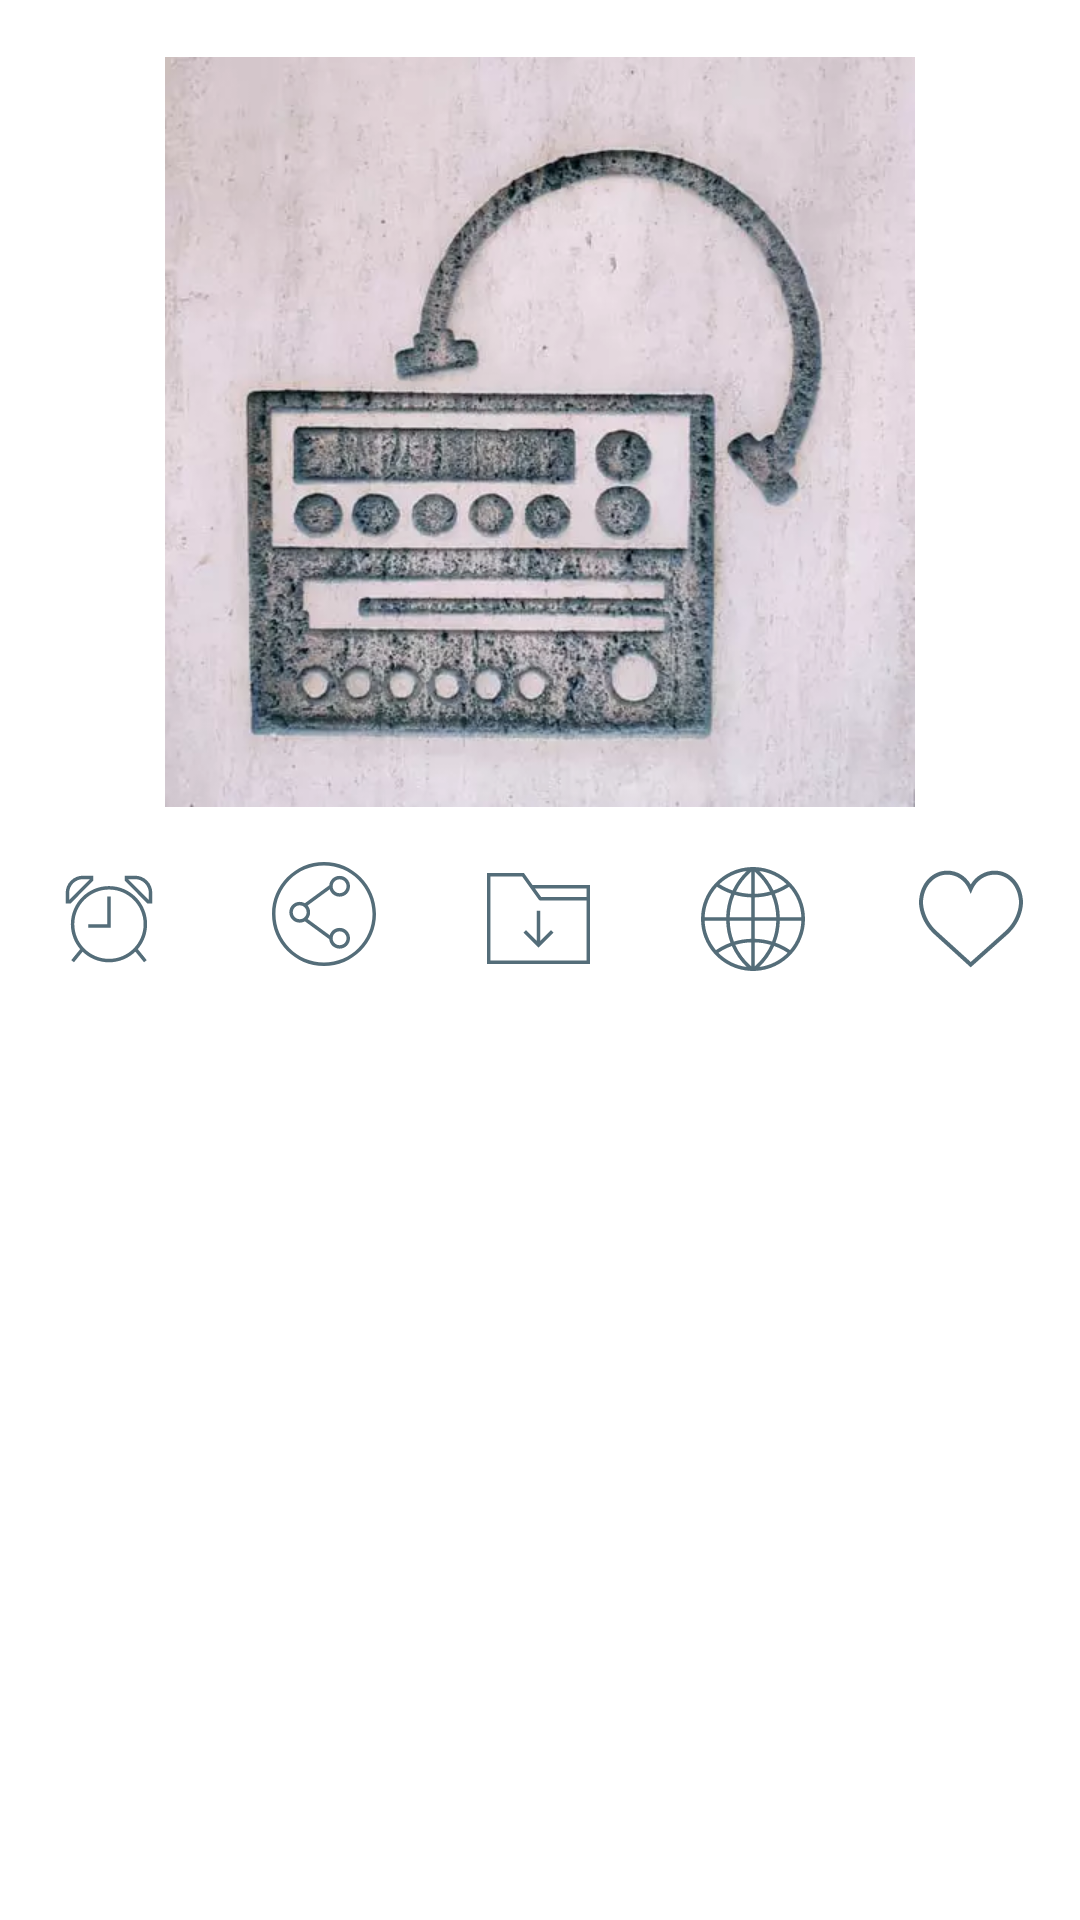

Screen size 1080 x 1920. Icon name, then its center in pixels as (x,y):
add alarm: (109,919)
like: (971,918)
recordings folder: (538,918)
share: (324,914)
